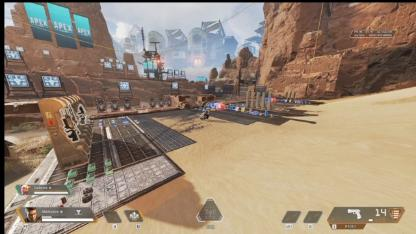Target: (198, 108, 209, 119)
